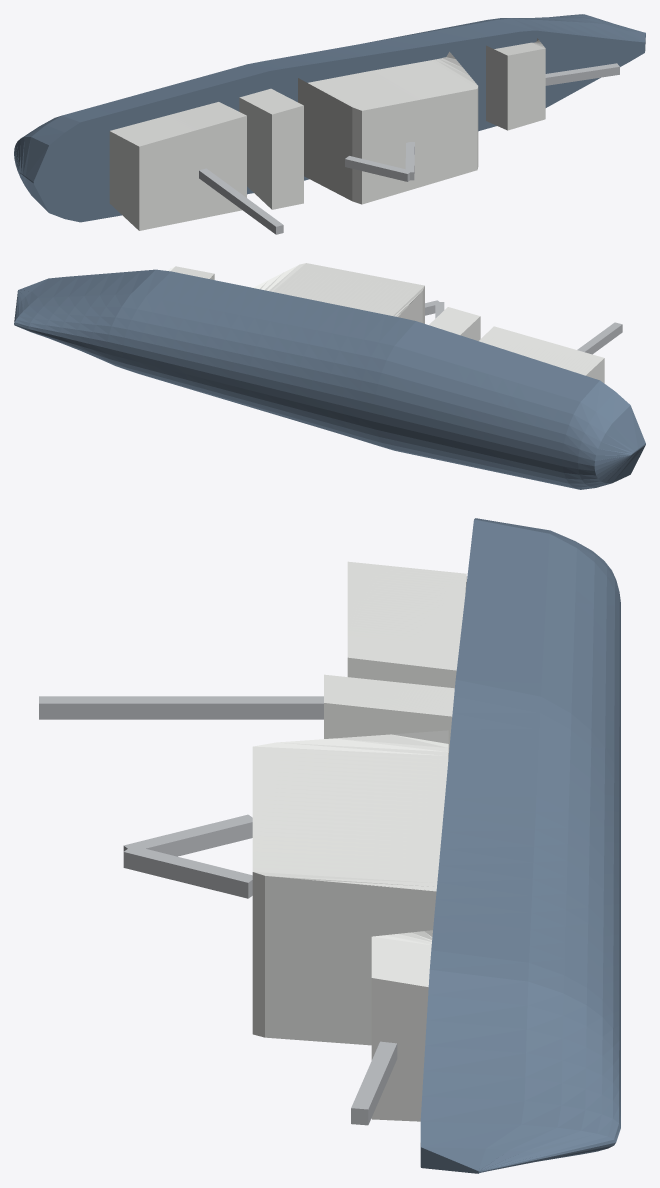
Rendered from warship-loft.glb.
The picture shows the model from 3 angles, top to bottom: view 1: azimuth 30°, elevation 25°; view 2: azimuth 150°, elevation 25°; view 3: azimuth 270°, elevation 25°; orthographic projection. The views are drawn at different scales.
Parts seen in each view (by area): view 1: warship; view 2: warship; view 3: warship.
Boxes of the visible parts, x1=… form: warship: x1=14, y1=14, x2=645, y2=234; warship: x1=14, y1=263, x2=645, y2=489; warship: x1=39, y1=518, x2=620, y2=1173.
Bounding box in the file's own units: 1.93 × 0.3594 × 0.7946.
